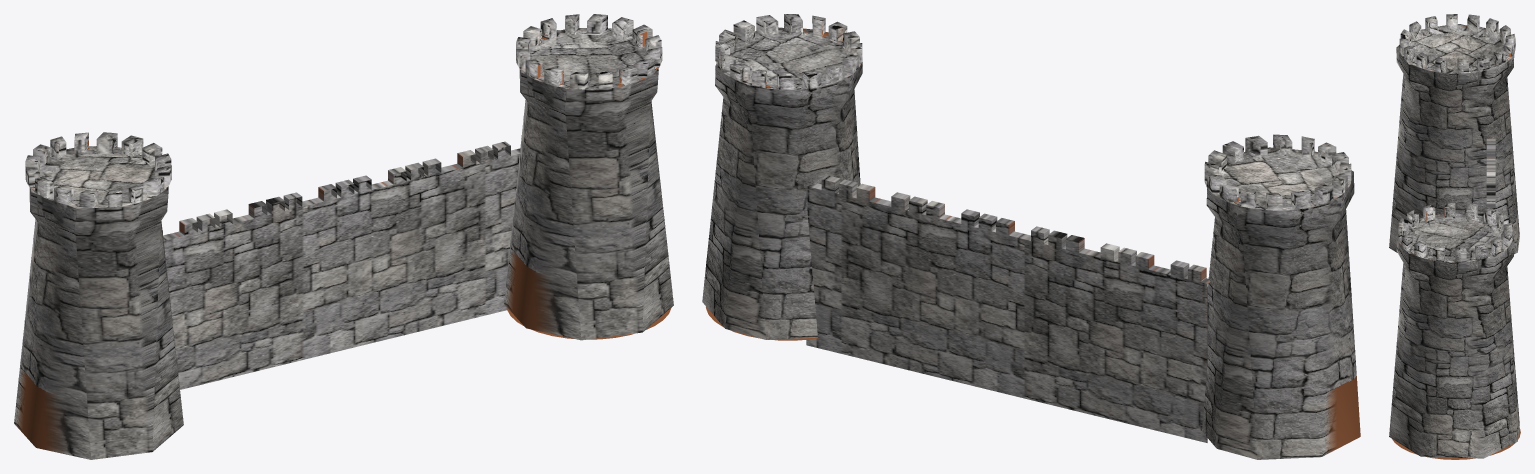
File: CastleEnd.fbx
3 views of the same model, side by side, from view 1: azimuth 30°, elevation 25°; view 2: azimuth 150°, elevation 25°; view 3: azimuth 270°, elevation 25° (orthographic). The views are drawn at different scales.
Visible parts, largest first — view 1: Cube.001; view 2: Cube.001; view 3: Cube.001.
Boxes of the visible parts, box(x1,y1,x2,y2) form: Cube.001: box(14, 14, 673, 459); Cube.001: box(702, 14, 1360, 459); Cube.001: box(1389, 14, 1520, 459).
Size of the model in its own units: 13106 by 5342 by 2989.
